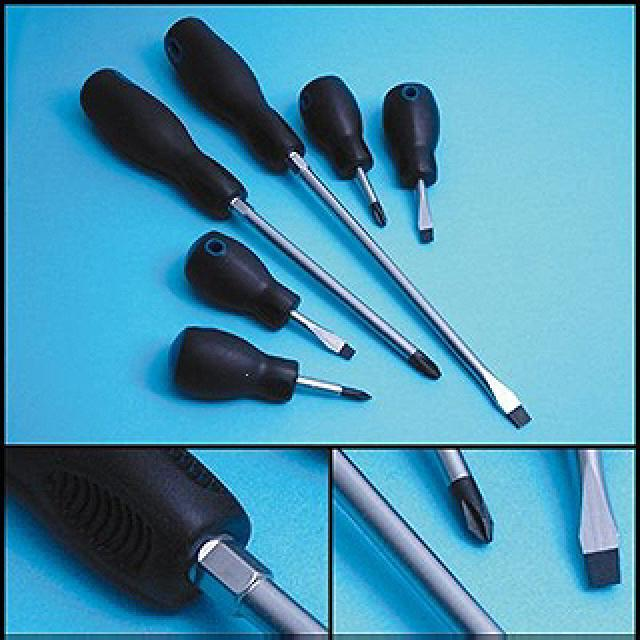screwdriver: (158, 8, 536, 430), (68, 62, 454, 390), (174, 224, 362, 378), (149, 320, 378, 423), (292, 60, 394, 224), (378, 77, 449, 246)
